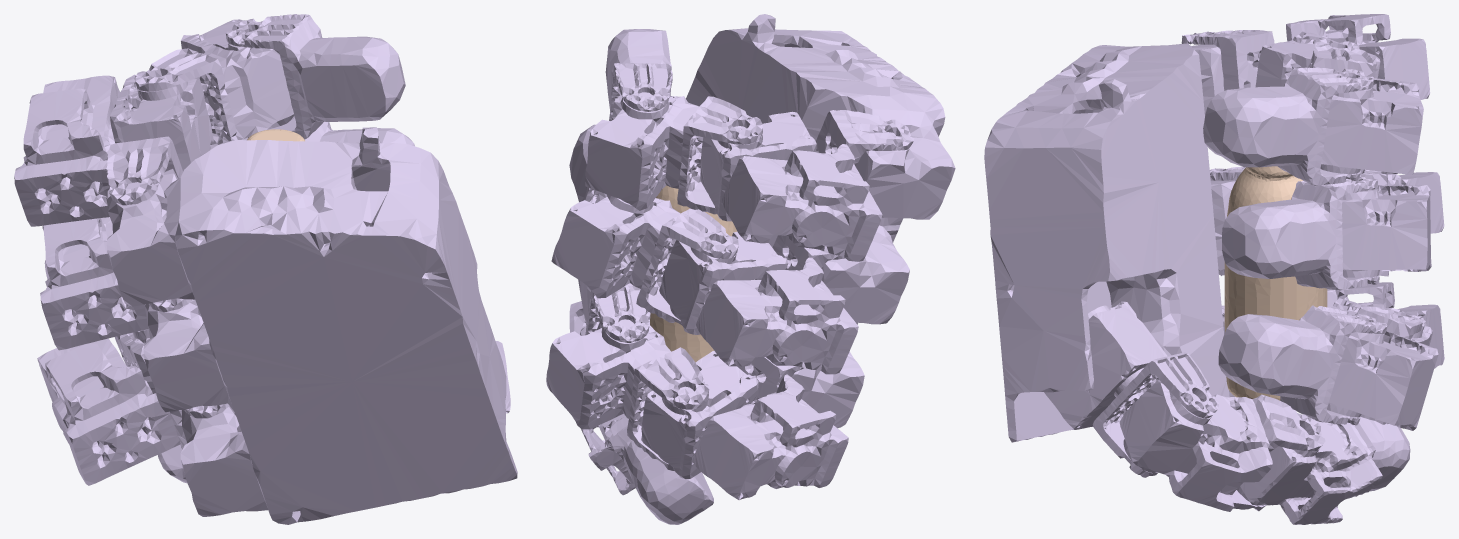
File: 86715e64f18cac-closed.glb
3 views of the same model, side by side, from view 1: azimuth 30°, elevation 25°; view 2: azimuth 150°, elevation 25°; view 3: azimuth 270°, elevation 25° (orthographic). The views are drawn at different scales.
Parts seen in each view (by area): view 1: LEAP_hand; view 2: LEAP_hand, world; view 3: LEAP_hand, world.
Part boxes in pixels (bbox=[...]): LEAP_hand: bbox=[14, 14, 517, 524]; LEAP_hand: bbox=[546, 14, 955, 524]; world: bbox=[650, 185, 737, 362]; LEAP_hand: bbox=[984, 14, 1444, 524]; world: bbox=[1224, 166, 1327, 400].
Bounding box in the file's own units: 0.1477 × 0.1615 × 0.1522.
